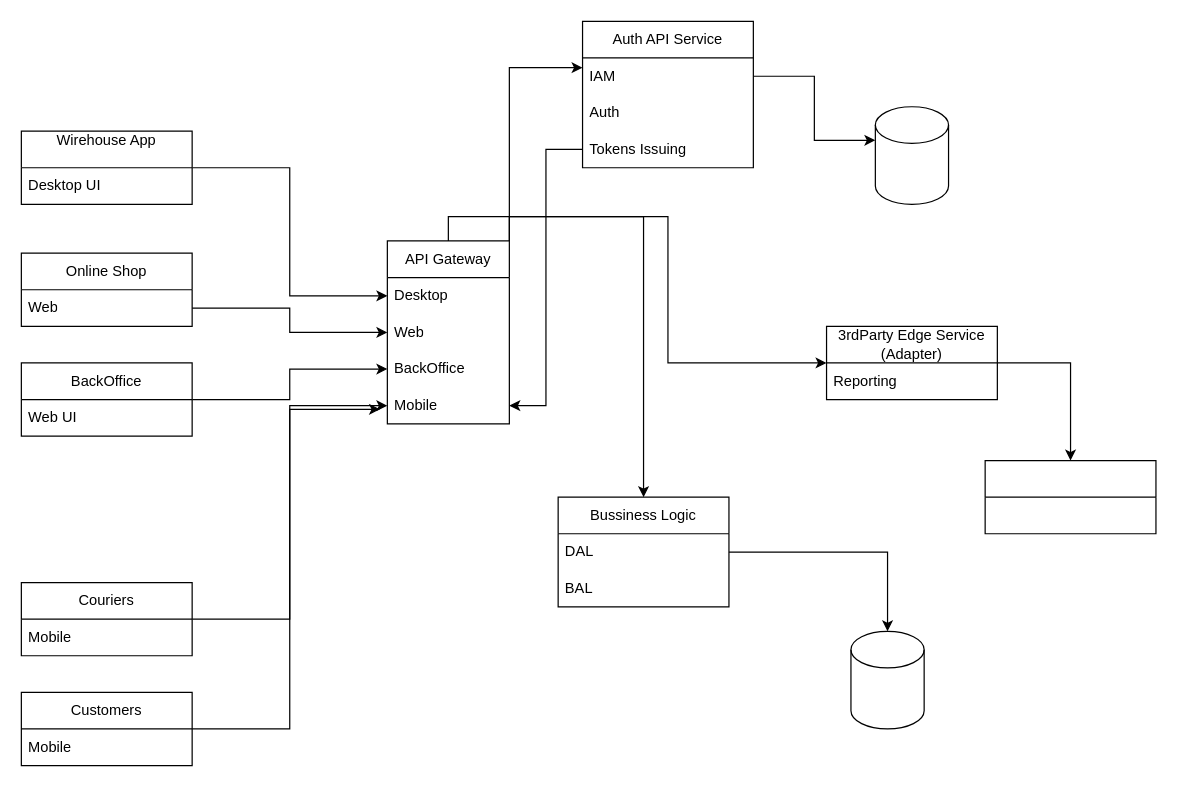
Image size: 1177x787. Some labels were removed from this diagram. Here are the shapes that lost their labels. From the top down, the centre of each, then its label:
At [911,155]: "IAM Storage".
At [1070,496]: "3rdParty".
At [887,679]: "SQL DB".
